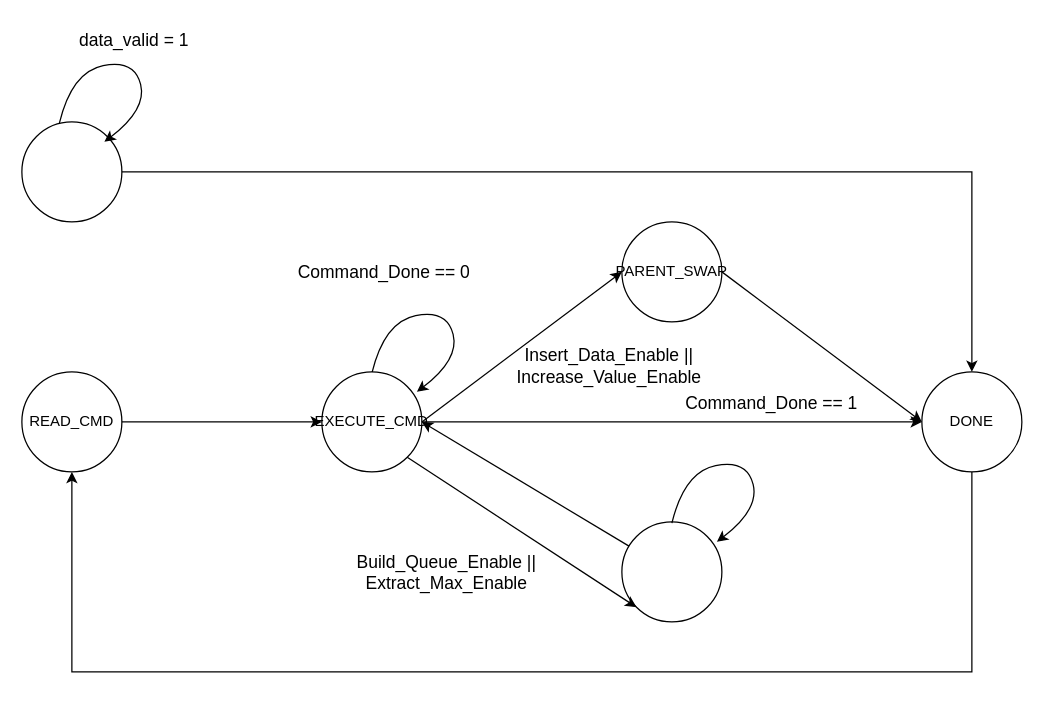
The diagram is 1044 pixels wide and 704 high, and some of its shapes have lost their labels. Here are the shapes that lost their labels. From the top down, the box of each, then its label:
(21, 121, 122, 222): LOAD
(621, 521, 722, 622): MAX_HEAPIFY
